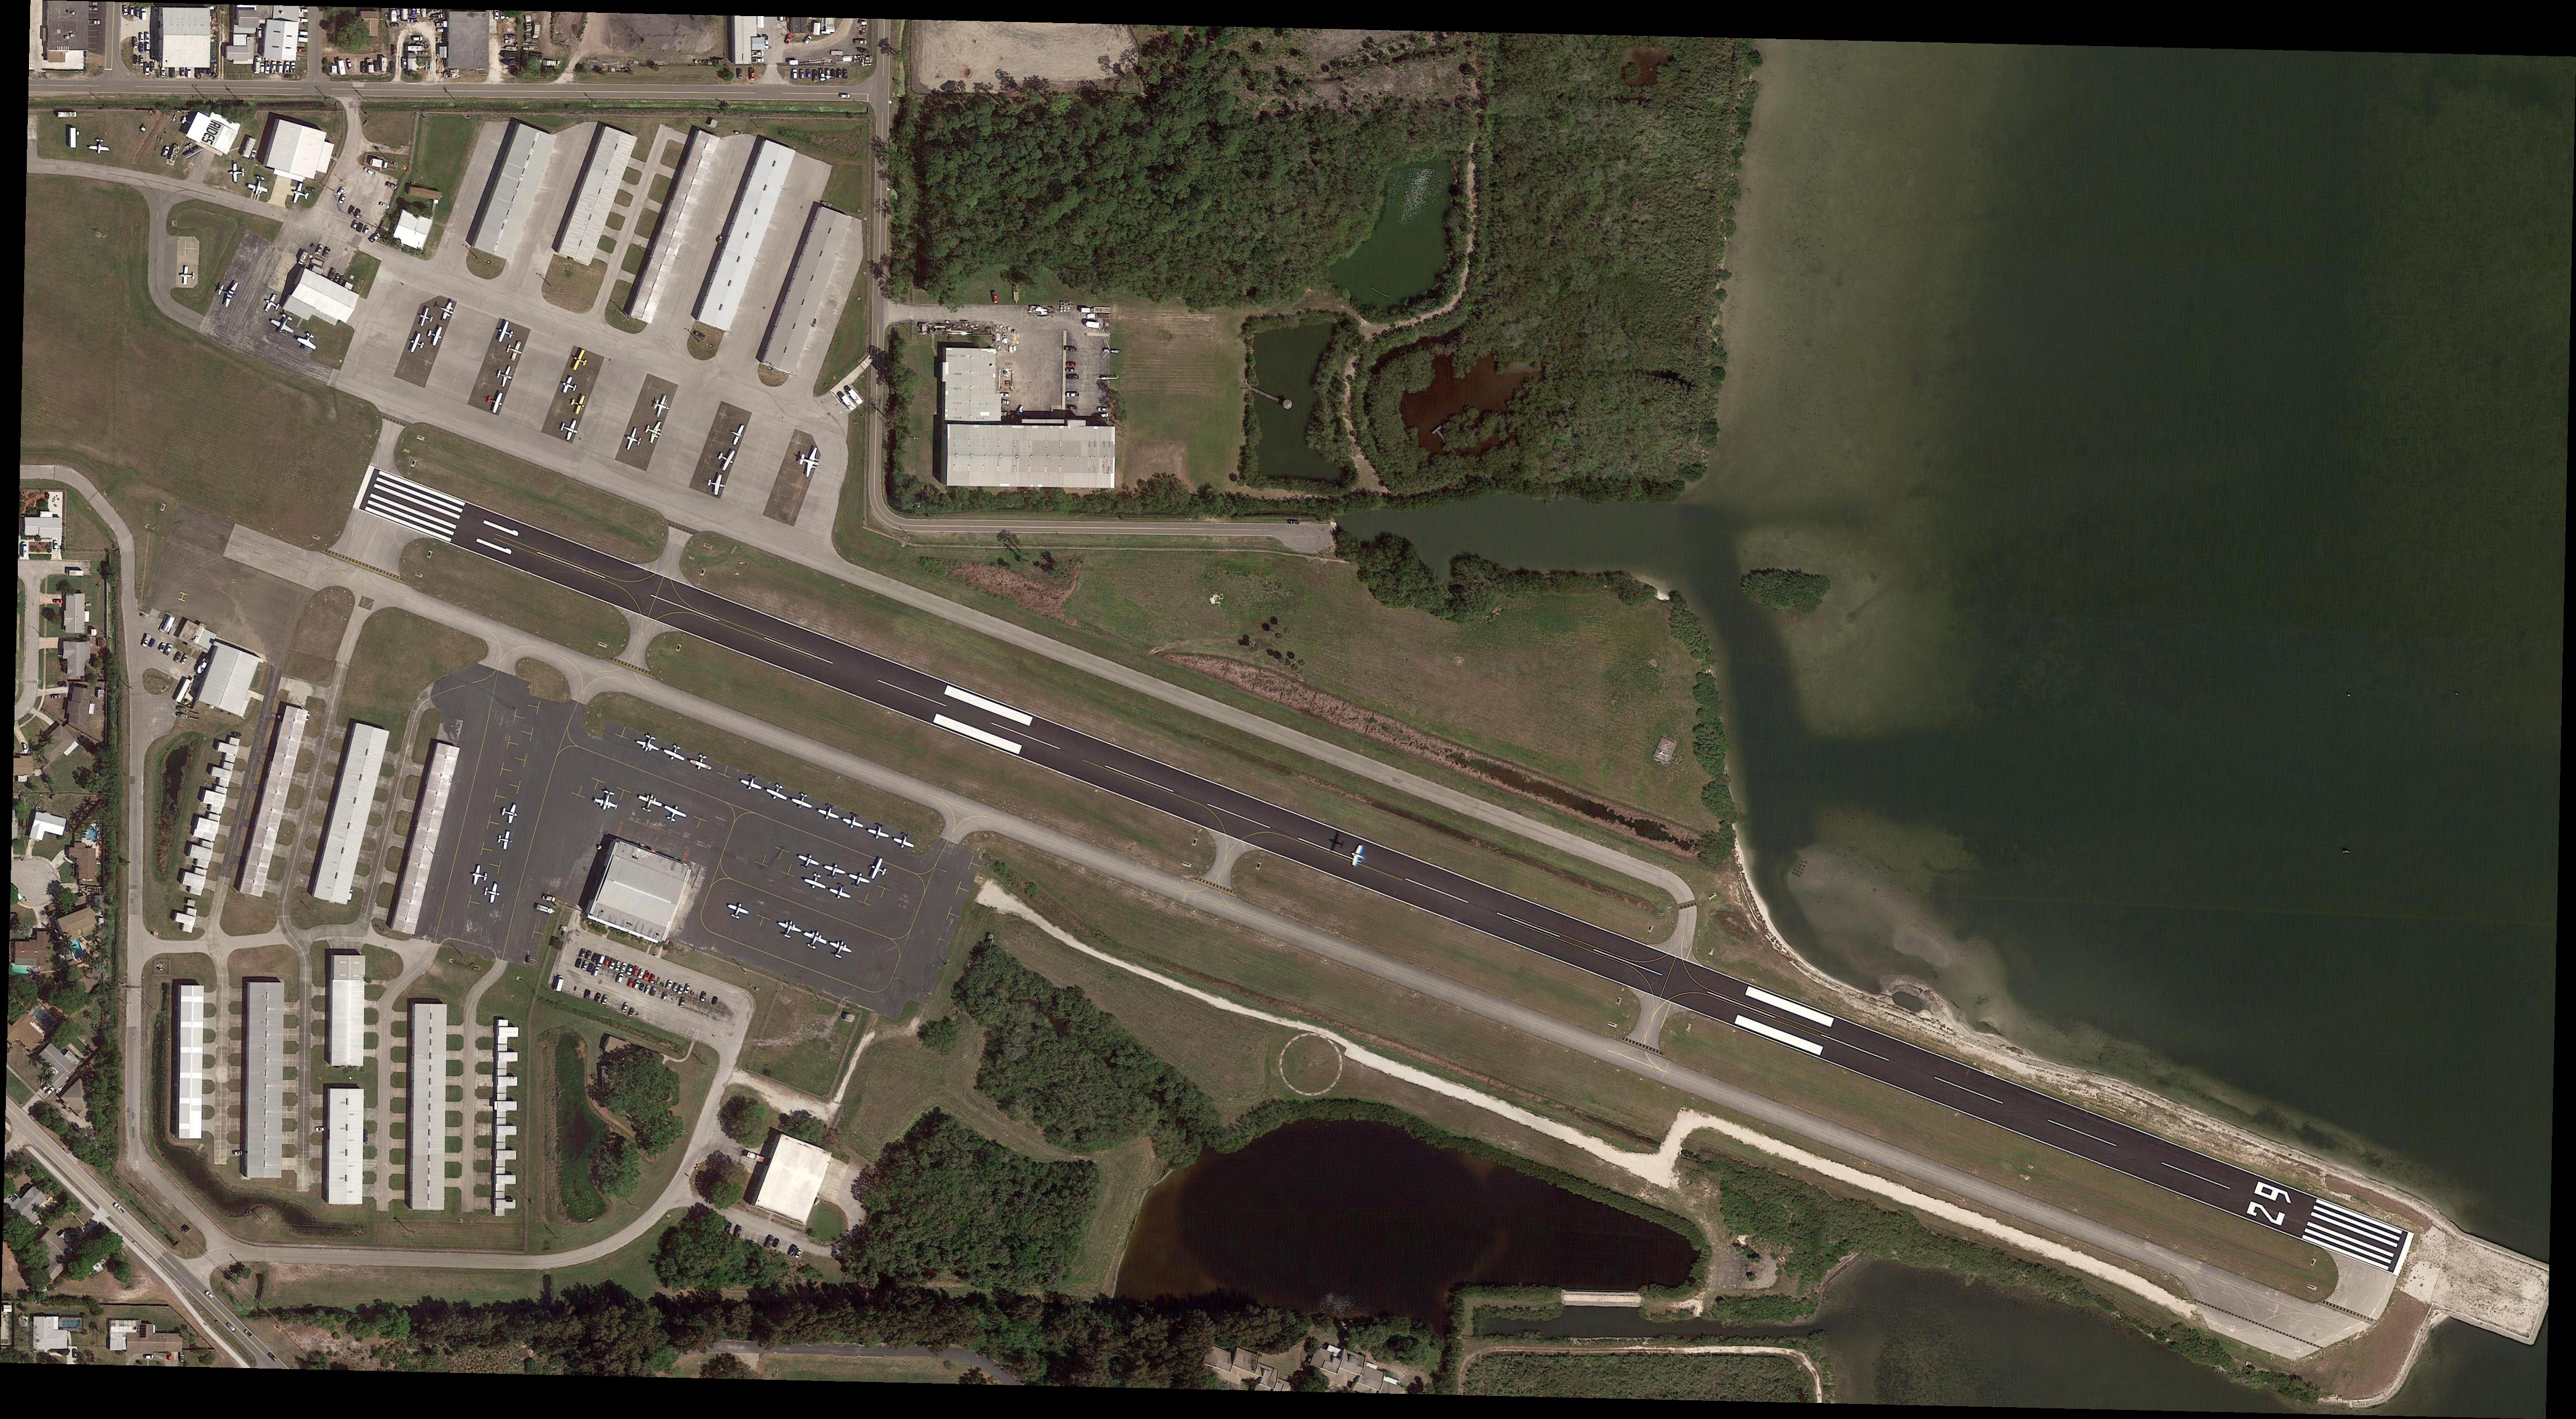plane: (211, 276, 243, 309), (267, 309, 301, 339), (797, 444, 823, 479), (799, 926, 830, 954), (774, 916, 804, 942), (640, 416, 666, 446), (592, 788, 622, 814), (634, 790, 664, 816), (481, 388, 507, 416), (713, 446, 739, 474), (661, 800, 689, 827), (634, 732, 664, 757), (295, 329, 322, 355), (827, 937, 855, 961), (724, 898, 751, 923), (650, 391, 673, 421), (828, 879, 855, 903), (557, 416, 580, 444), (495, 318, 517, 346), (793, 851, 821, 874), (689, 751, 717, 774), (624, 425, 645, 454), (802, 870, 828, 893), (570, 348, 592, 374), (503, 337, 526, 363), (290, 182, 313, 208), (867, 856, 890, 883), (765, 781, 792, 804), (495, 362, 516, 390), (1347, 844, 1370, 869), (248, 173, 271, 197), (479, 881, 502, 905), (792, 790, 816, 813), (568, 391, 589, 418), (725, 421, 746, 447), (867, 821, 893, 842), (841, 811, 867, 832), (816, 802, 842, 823), (739, 772, 765, 793), (662, 743, 689, 764), (848, 869, 870, 891), (407, 332, 428, 356), (425, 323, 446, 348), (435, 299, 456, 323), (262, 292, 283, 316), (180, 140, 204, 161), (706, 472, 727, 496), (500, 800, 521, 825), (821, 862, 848, 881), (416, 306, 437, 329), (559, 374, 580, 397), (893, 832, 916, 853), (470, 863, 489, 888), (495, 828, 514, 851), (87, 138, 112, 156), (229, 163, 246, 183), (180, 266, 196, 285)
ship: (196, 657, 211, 676), (112, 1202, 126, 1215), (596, 954, 606, 968), (444, 72, 461, 79), (821, 201, 834, 210), (578, 947, 587, 959), (591, 952, 599, 965), (585, 949, 592, 961), (505, 45, 517, 51), (72, 1349, 77, 1360)
